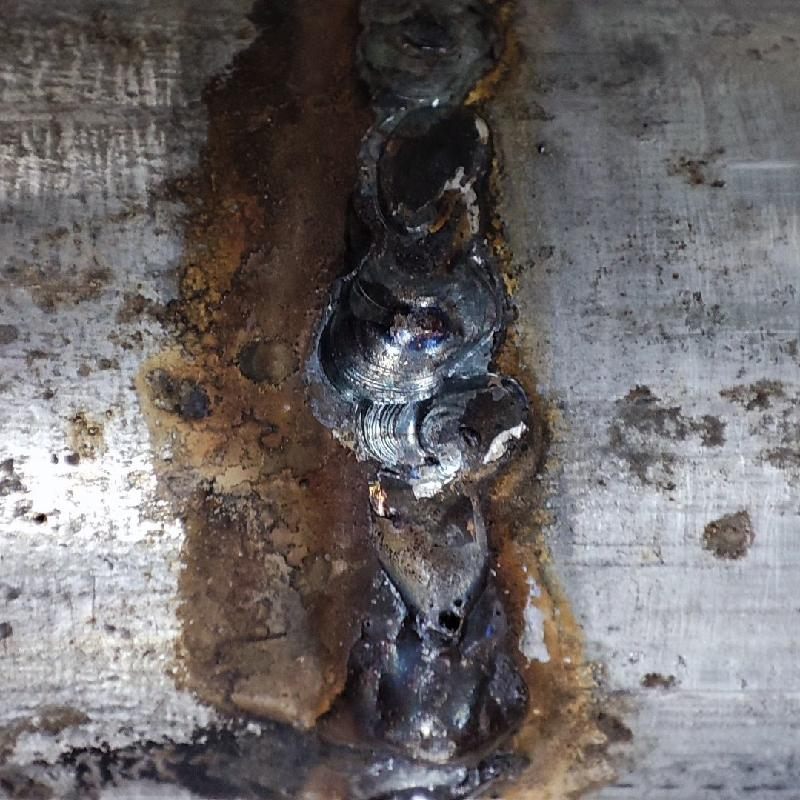Not_fully_soldered: (342, 395, 531, 643)
Surface_pores: (418, 586, 478, 640)
Weld: (313, 640, 534, 794)
wrong_size: (299, 1, 517, 394)
